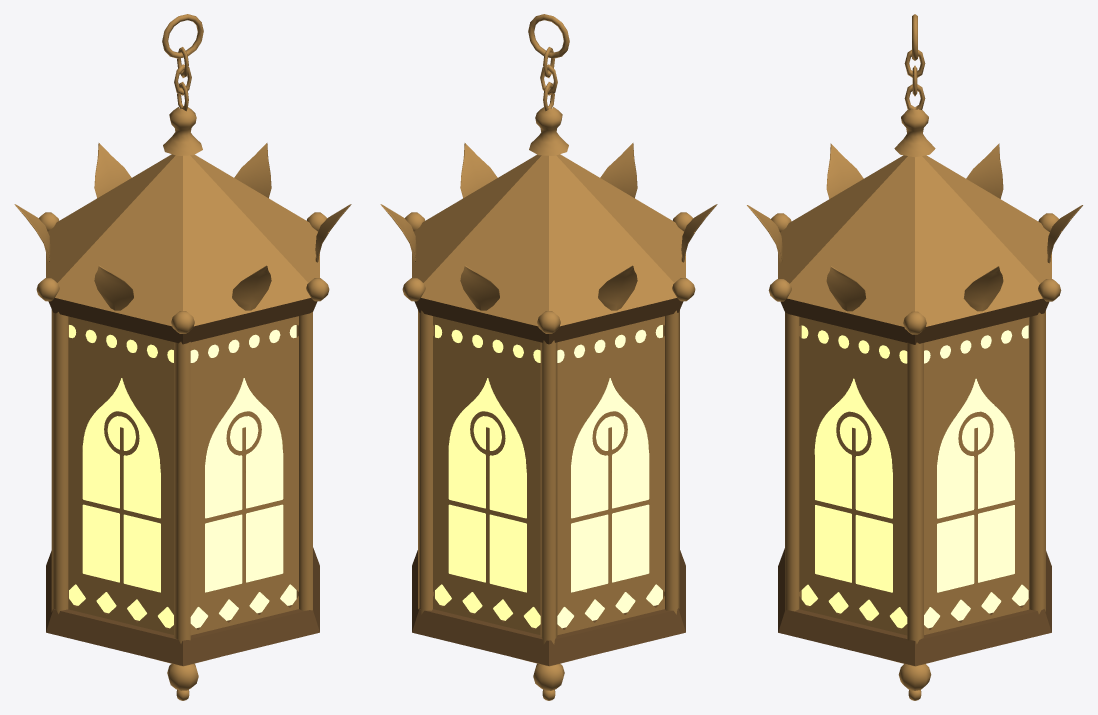
The model's file is prop-lantern-hex.glb.
3 renders of one model, left to right at view 1: azimuth 30°, elevation 25°; view 2: azimuth 150°, elevation 25°; view 3: azimuth 270°, elevation 25°, orthographic.
Visible parts, largest first — view 1: piece_Brass, piece_BrassPierced, piece_LampGlass, piece_BrassDark; view 2: piece_Brass, piece_BrassPierced, piece_LampGlass, piece_BrassDark; view 3: piece_Brass, piece_BrassPierced, piece_LampGlass, piece_BrassDark.
Boxes of the visible parts, x1,y1,x2,y2 form: piece_Brass: (14, 14, 351, 700); piece_BrassPierced: (68, 316, 298, 635); piece_LampGlass: (69, 325, 296, 628); piece_BrassDark: (46, 298, 319, 665); piece_Brass: (380, 14, 717, 700); piece_BrassPierced: (433, 316, 664, 635); piece_LampGlass: (435, 325, 662, 628); piece_BrassDark: (412, 298, 685, 665); piece_Brass: (747, 14, 1082, 700); piece_BrassPierced: (799, 317, 1029, 635); piece_LampGlass: (801, 325, 1028, 628); piece_BrassDark: (778, 298, 1051, 665).
Size of the model in its own units: 0.2229 by 0.5083 by 0.227.
Materials: 4 (1 with a texture image).
